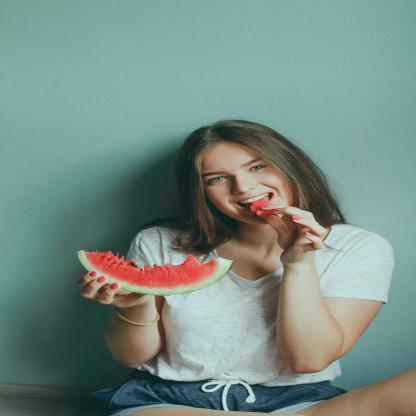Eye: (247, 163, 271, 175), (205, 175, 229, 186)
Mouth: (233, 191, 276, 213)
Nose: (230, 173, 257, 194)
